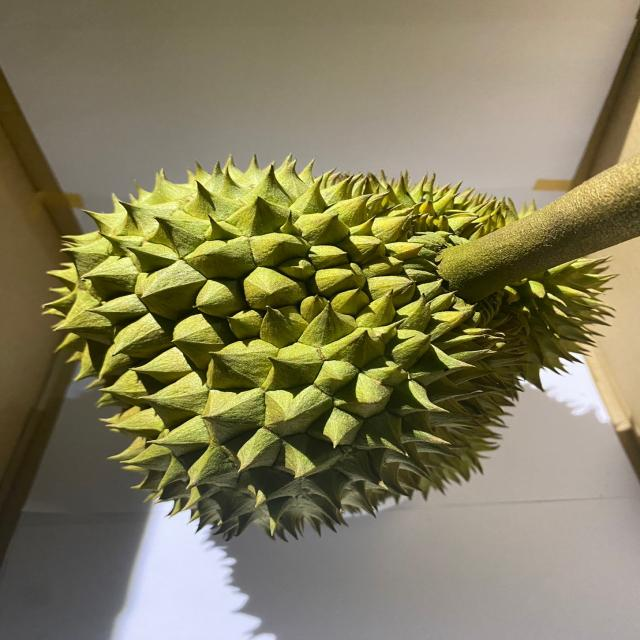immature: (37, 153, 616, 545)
